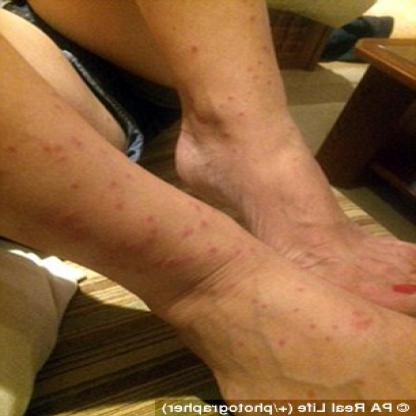Bed Bug: (92, 244, 192, 272), (16, 214, 94, 242), (40, 134, 86, 166), (240, 59, 277, 87), (194, 276, 268, 290), (221, 340, 258, 366), (207, 244, 266, 260), (309, 320, 345, 346), (163, 40, 208, 58), (282, 150, 309, 180), (352, 305, 379, 333), (178, 218, 214, 238), (42, 90, 68, 116), (292, 382, 324, 402), (99, 172, 133, 190), (140, 212, 160, 242), (274, 124, 298, 145), (60, 178, 86, 196), (244, 2, 260, 28), (110, 198, 136, 214), (6, 139, 22, 163), (247, 295, 274, 309), (215, 126, 242, 138), (219, 93, 247, 104), (275, 334, 295, 348), (257, 40, 273, 57), (292, 283, 314, 294), (289, 303, 304, 319), (186, 201, 209, 210), (227, 110, 254, 117)
